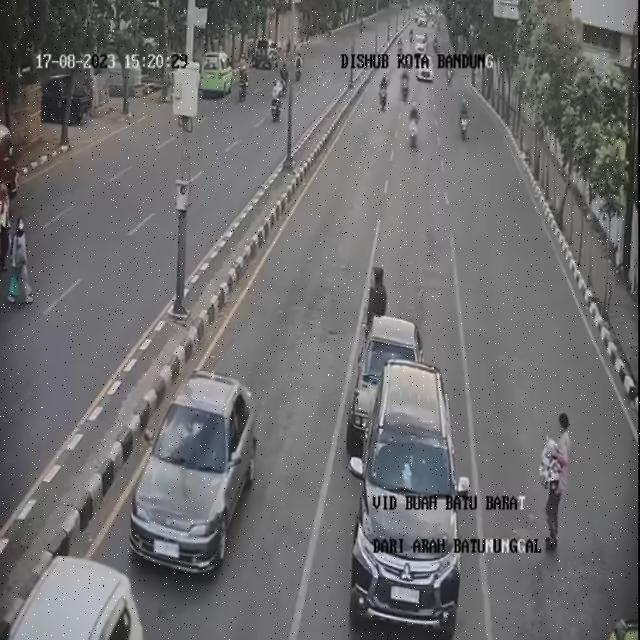cars: (359, 358, 480, 637), (133, 371, 261, 574), (0, 556, 150, 640), (348, 315, 420, 456)
motorcycle: (406, 98, 424, 154), (456, 94, 472, 143), (378, 71, 389, 117), (400, 64, 412, 101)
